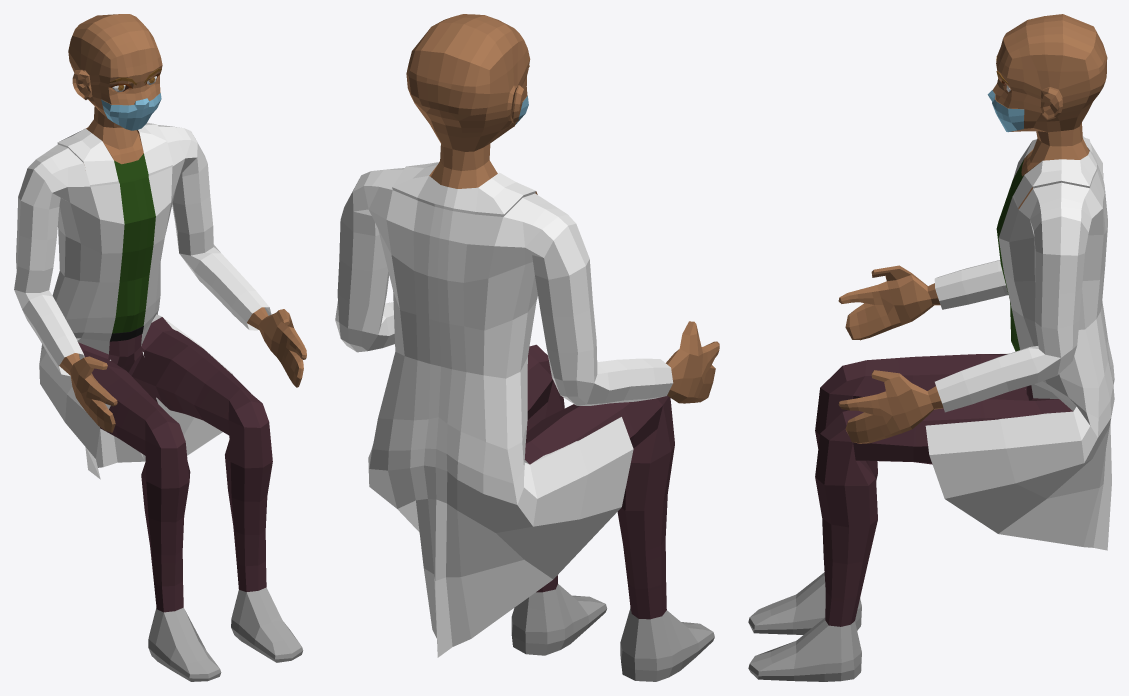
The model's file is ScientistMale_Sit.fbx.
3 views of the same model, side by side, from view 1: azimuth 30°, elevation 25°; view 2: azimuth 150°, elevation 25°; view 3: azimuth 270°, elevation 25° (orthographic). The views are drawn at different scales.
Visible parts, largest first — view 1: ScientistMale_Sit; view 2: ScientistMale_Sit; view 3: ScientistMale_Sit.
Part boxes in pixels (x1,y1,x2,y2): ScientistMale_Sit: [14, 14, 306, 681]; ScientistMale_Sit: [335, 14, 719, 681]; ScientistMale_Sit: [748, 14, 1114, 681].
Size of the model in its own units: 0.3245 by 0.8093 by 0.4272.
